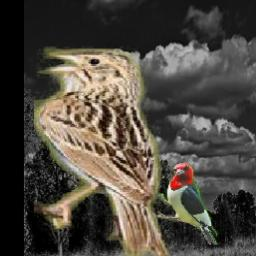Sparrow: (35, 46, 171, 256)
Woodpecker: (157, 162, 219, 246)
